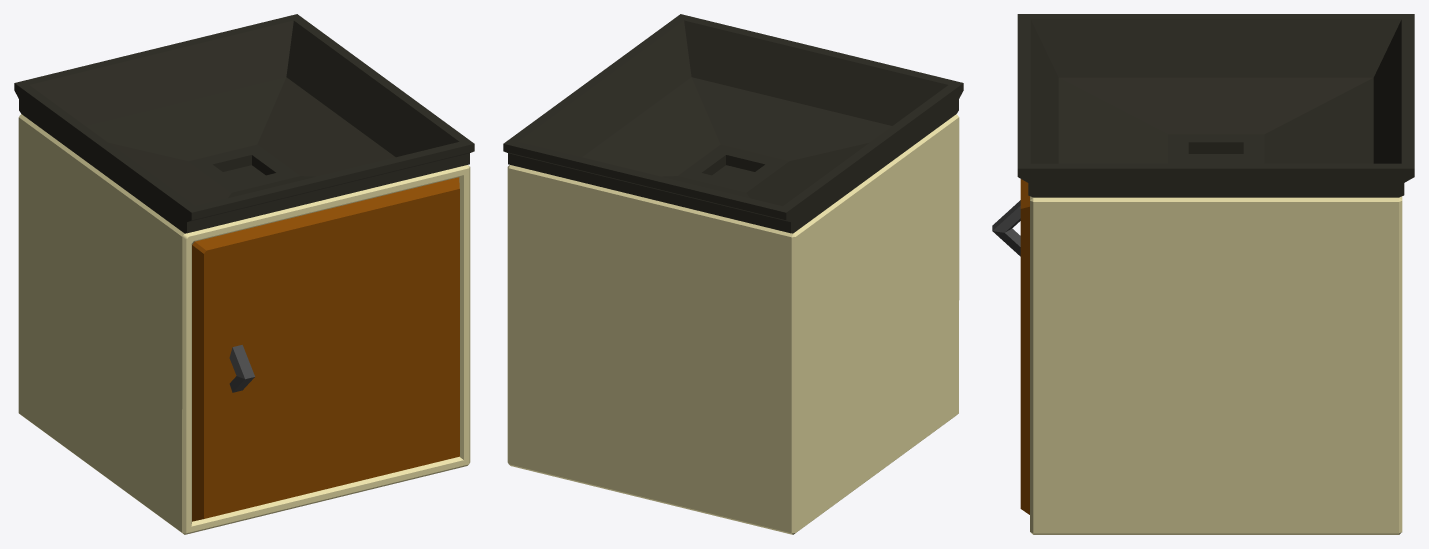
The model's file is FIL_ZenGarden_Sink_02.fbx.
The picture shows the model from 3 angles, left to right: view 1: azimuth 30°, elevation 25°; view 2: azimuth 150°, elevation 25°; view 3: azimuth 270°, elevation 25°; orthographic projection. The views are drawn at different scales.
Visible parts, largest first — view 1: pCube5; view 2: pCube5; view 3: pCube5.
Boxes of the visible parts, bbox=[...] form: pCube5: bbox=[14, 14, 474, 534]; pCube5: bbox=[503, 14, 963, 534]; pCube5: bbox=[992, 14, 1414, 534].
Size of the model in its own units: 8.29 by 9 by 9.41.
